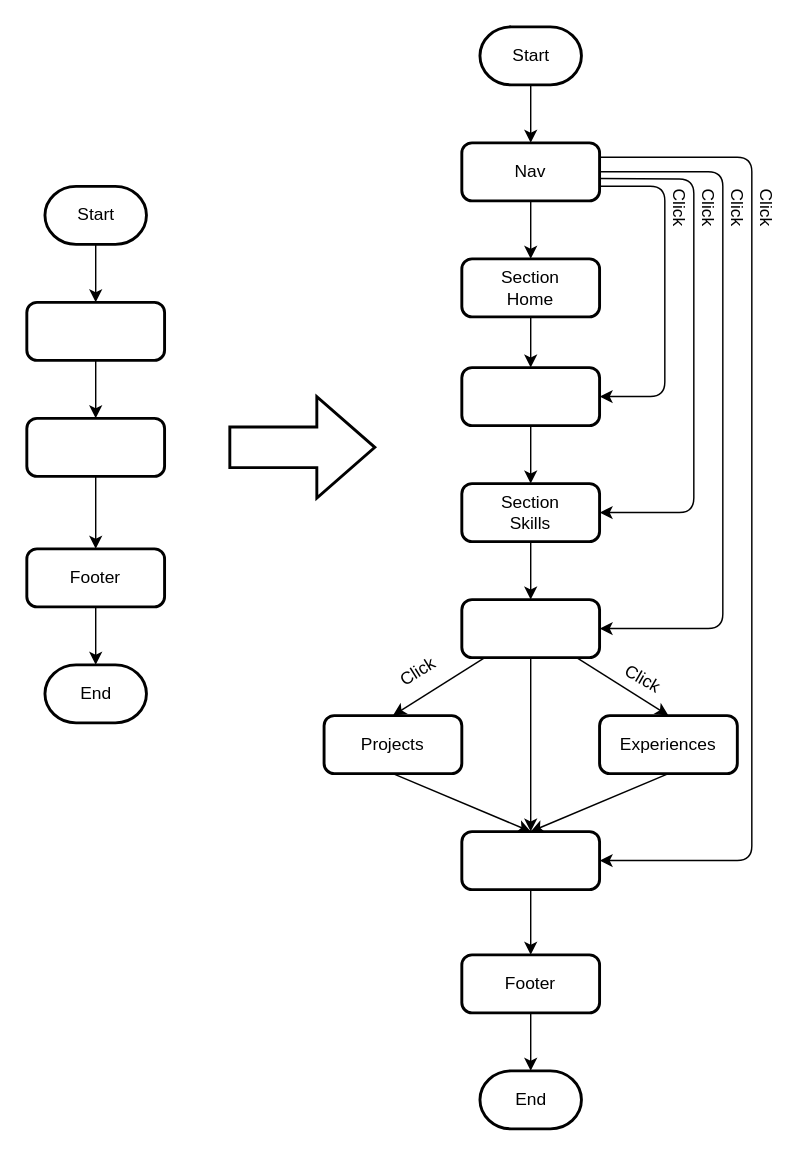
The diagram is 812 pixels wide and 1154 high, and some of its shapes have lost their labels. The shapes that lost their labels are listed below. From the top down, each one's box as (x1, y1, x2, y2) in pixels, then its label:
(25, 300, 165, 361): Header
(460, 365, 600, 426): Section About
(25, 416, 165, 477): Main
(460, 597, 600, 658): Section Achievement
(460, 829, 600, 890): Section Contacts
